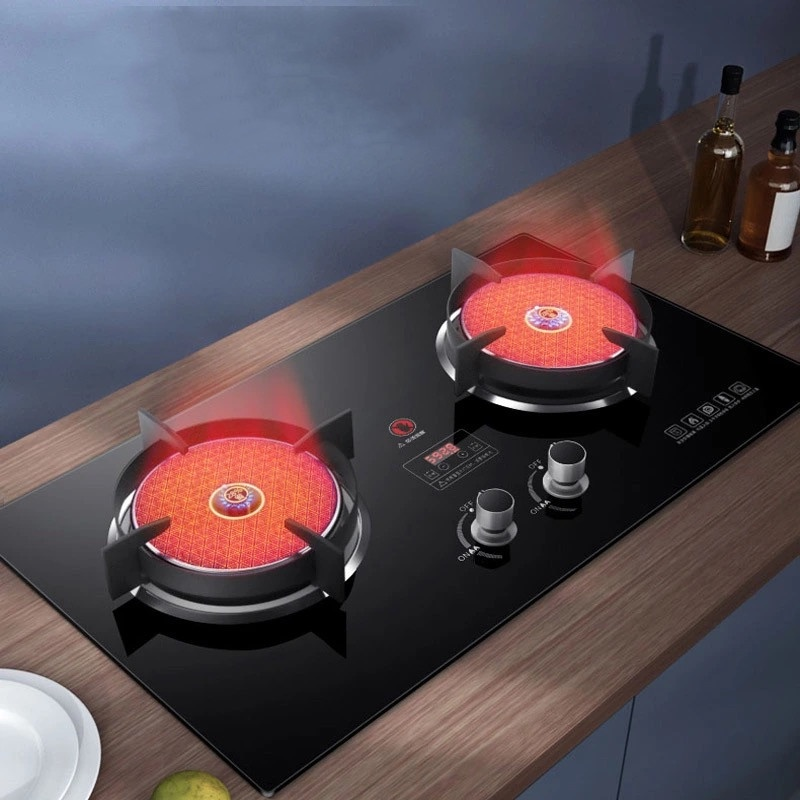gasoven: (3, 230, 787, 796)
